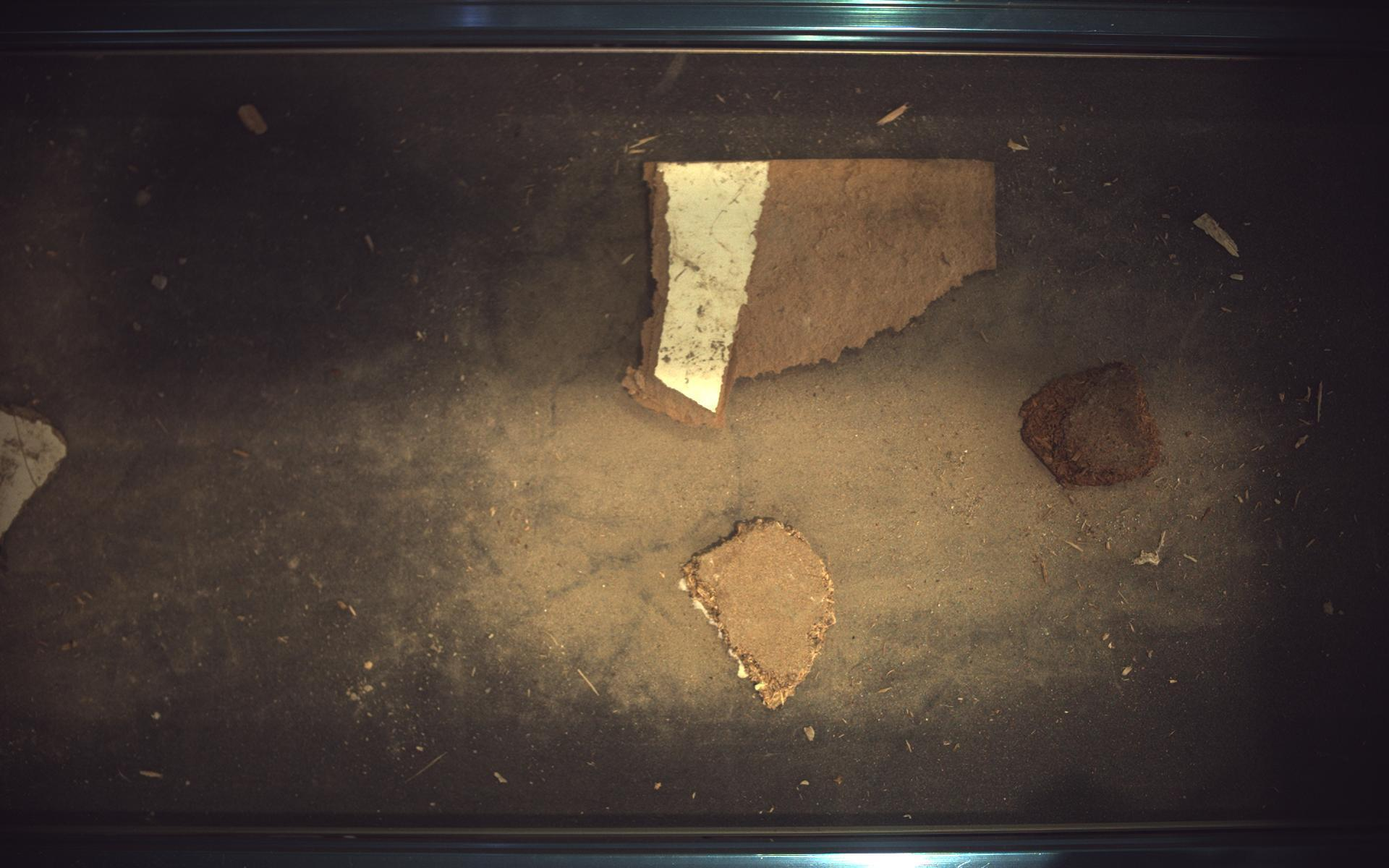wood: (623, 158, 998, 426), (680, 519, 837, 710), (1021, 362, 1163, 486), (1, 406, 65, 535)
